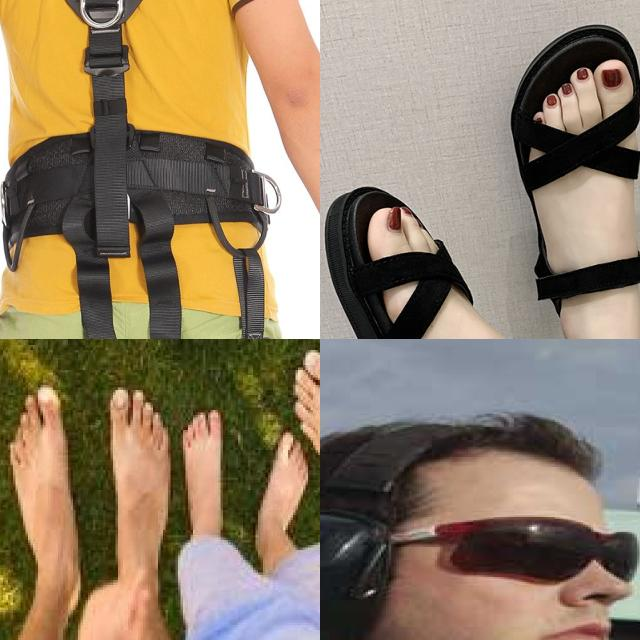Barefoots: (2, 384, 98, 610), (104, 382, 176, 593), (250, 430, 319, 570), (176, 398, 234, 546), (290, 339, 320, 452)
Ear-protection: (320, 510, 396, 640)
Harness: (8, 0, 219, 339)
Sandals: (320, 12, 640, 339)
person: (320, 415, 640, 640)
